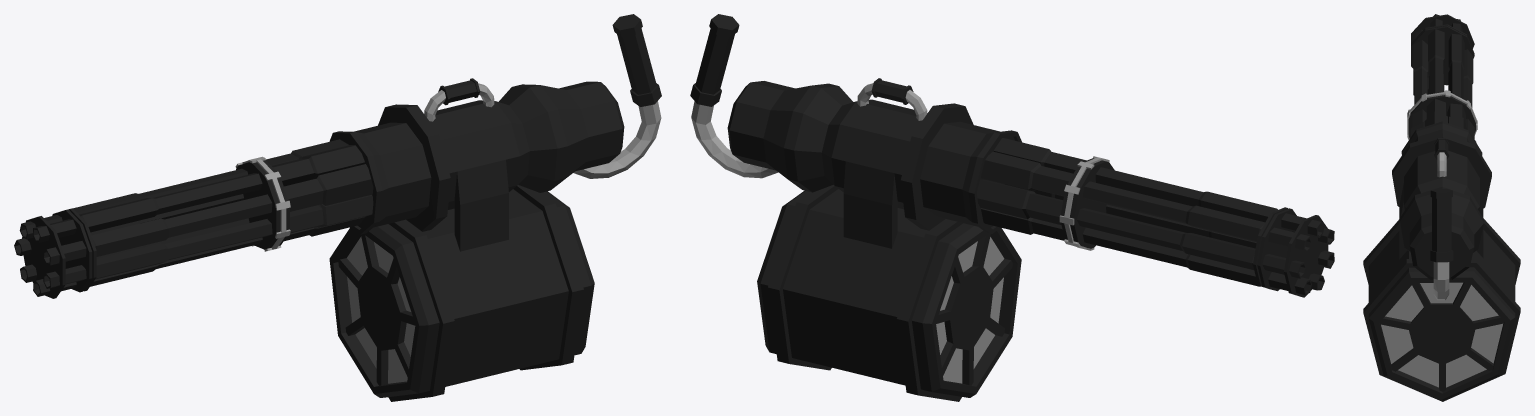
Rendered from gatling.fbx.
The picture shows the model from 3 angles, left to right: view 1: azimuth 30°, elevation 25°; view 2: azimuth 150°, elevation 25°; view 3: azimuth 270°, elevation 25°; orthographic projection. The views are drawn at different scales.
Parts seen in each view (by area): view 1: Cylinder; view 2: Cylinder; view 3: Cylinder.
Boxes of the visible parts, x1,y1,x2,y2 form: Cylinder: (14,14,661,401); Cylinder: (690,14,1334,401); Cylinder: (1363,14,1520,401).
Bounding box in the file's own units: 648 × 323 × 185.
Materials: 1 (1 with a texture image).
